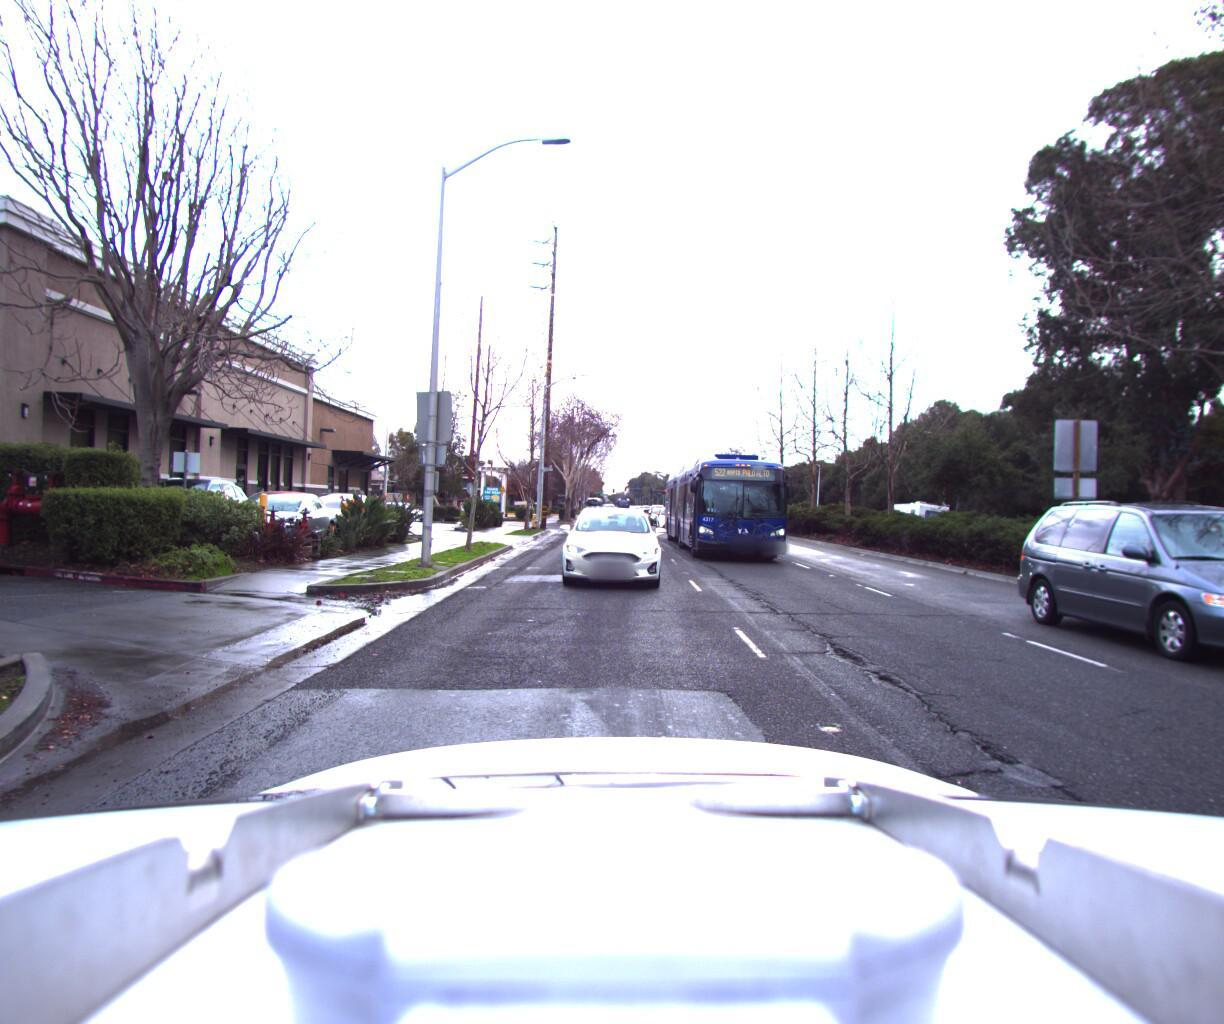bus: (654, 451, 802, 577)
car: (1007, 493, 1224, 698), (548, 492, 663, 601), (106, 479, 265, 552), (205, 491, 350, 559), (650, 508, 686, 538)
other_vehicle: (1033, 507, 1167, 573), (881, 505, 953, 549)
